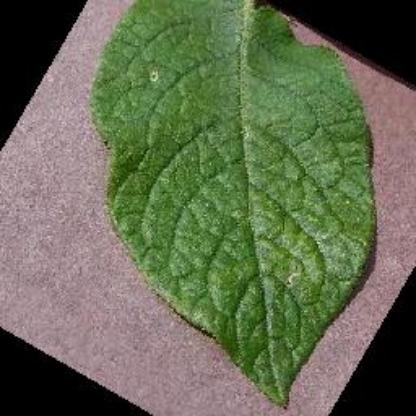Healthy-plant: (86, 0, 384, 410)
